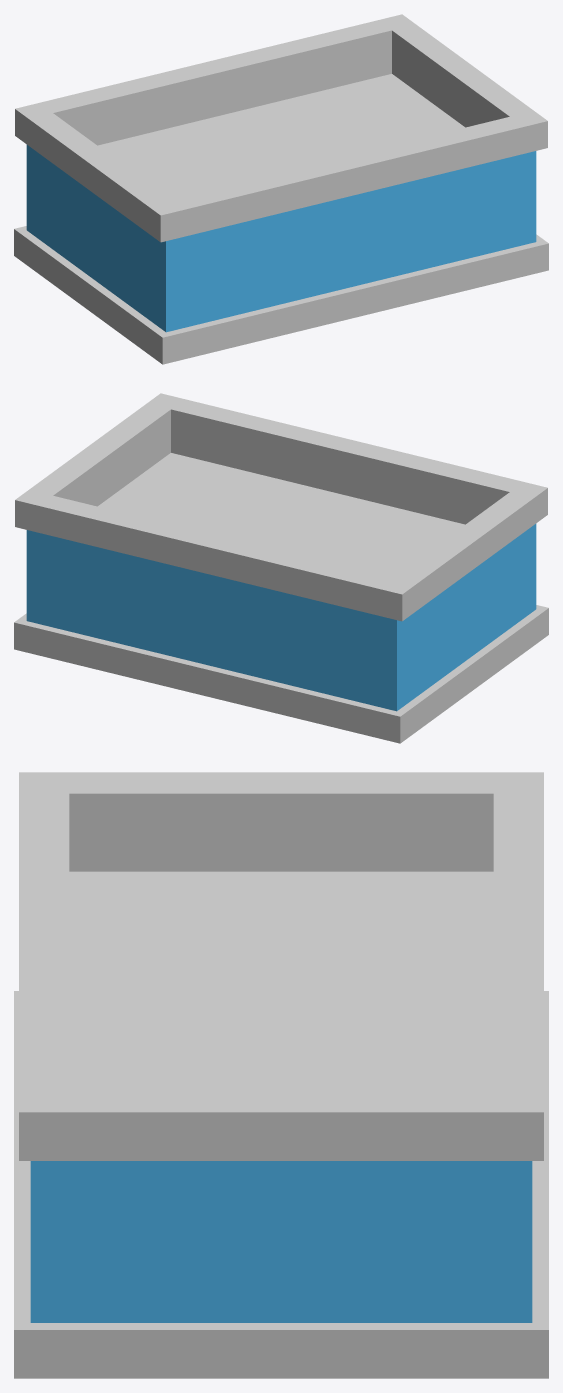
File: CartridgesHolder1.fbx
The picture shows the model from 3 angles, top to bottom: view 1: azimuth 30°, elevation 25°; view 2: azimuth 150°, elevation 25°; view 3: azimuth 270°, elevation 25°; orthographic projection. The views are drawn at different scales.
Parts seen in each view (by area): view 1: Cube; view 2: Cube; view 3: Cube.
Boxes of the visible parts, x1,y1,x2,y2 form: Cube: (14,14,548,364); Cube: (14,393,548,743); Cube: (14,772,548,1378).
Bounding box in the file's own units: 301 × 110 × 200.
